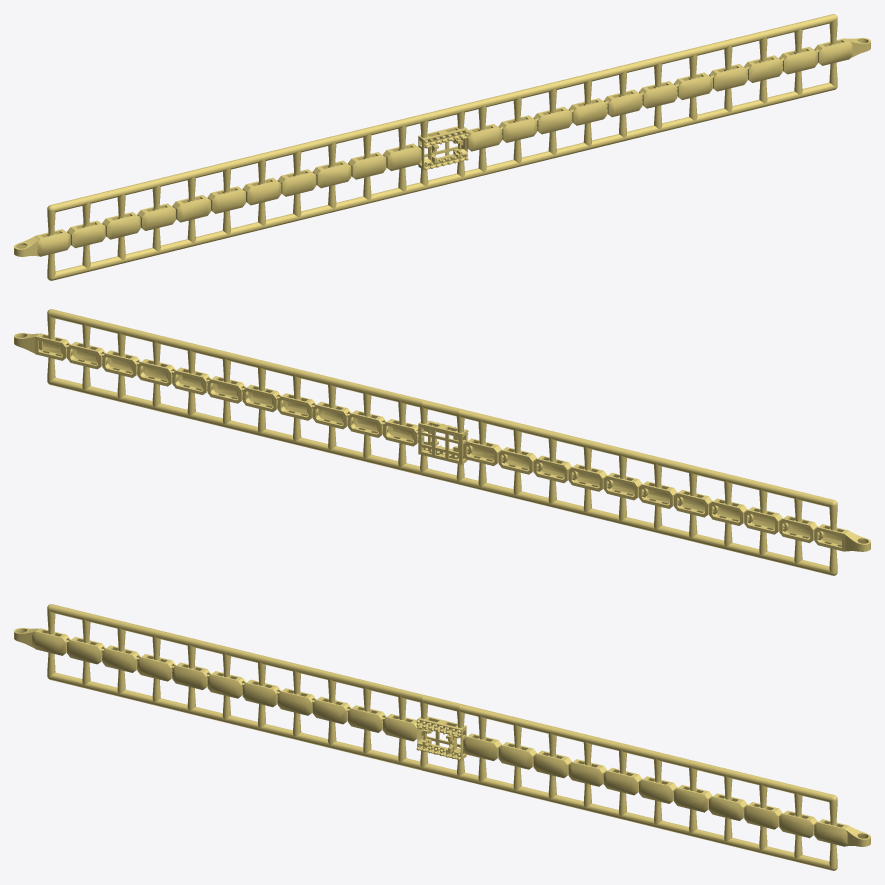
File: yzn5-97_1.glb
3 views of the same model, one above another, from view 1: azimuth 30°, elevation 25°; view 2: azimuth 150°, elevation 25°; view 3: azimuth 330°, elevation 25° (orthographic).
Visible parts, largest first — view 1: Renderer Node; view 2: Renderer Node; view 3: Renderer Node.
Boxes of the visible parts, x1=… form: Renderer Node: x1=14, y1=14, x2=870, y2=280; Renderer Node: x1=14, y1=309, x2=870, y2=575; Renderer Node: x1=14, y1=604, x2=870, y2=870.
Size of the model in its own units: 177 by 14.86 by 3.49.
